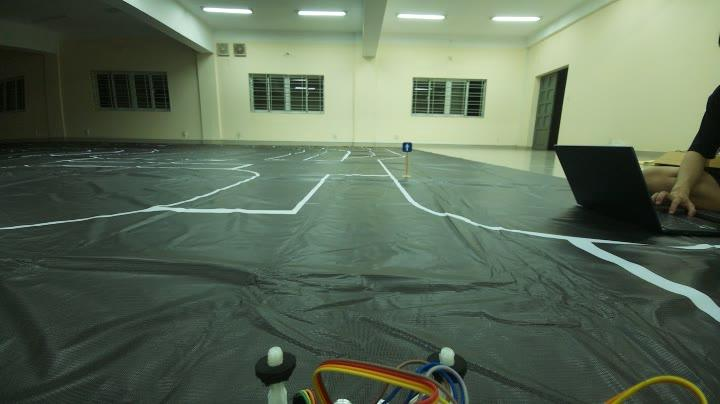onewayroad: (399, 139, 417, 153)
